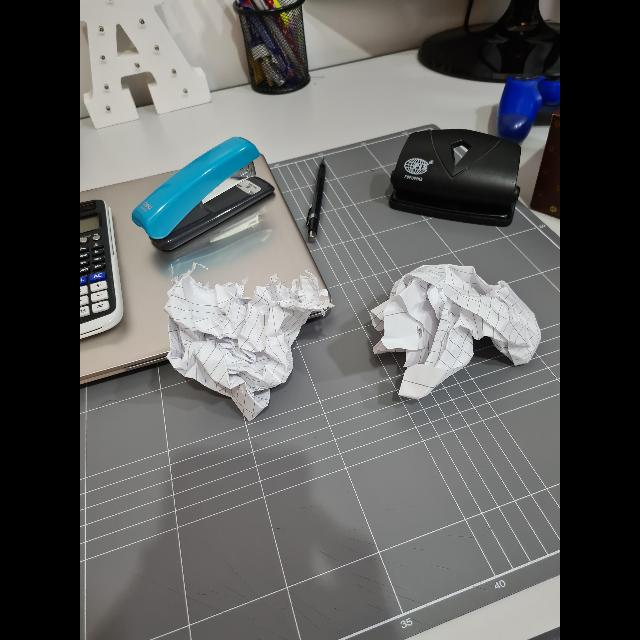scrap_paper: (162, 274, 330, 416), (365, 264, 537, 400)
